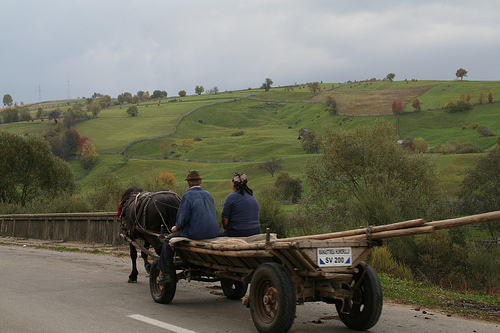horse: (116, 188, 181, 283)
